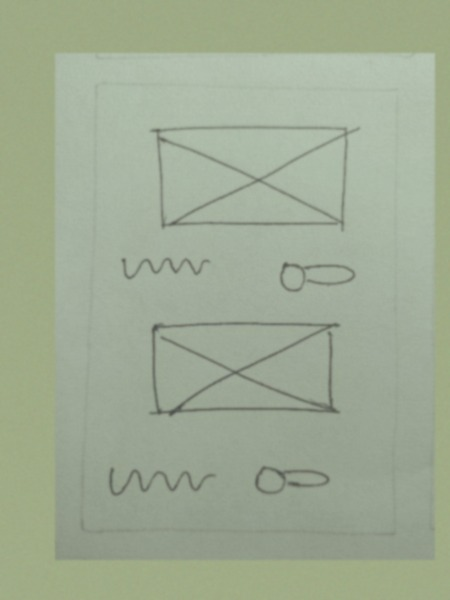image: (146, 116, 364, 243), (141, 314, 345, 423)
switch: (245, 459, 339, 506), (269, 254, 361, 296)
text: (103, 459, 223, 502), (113, 250, 216, 292)
